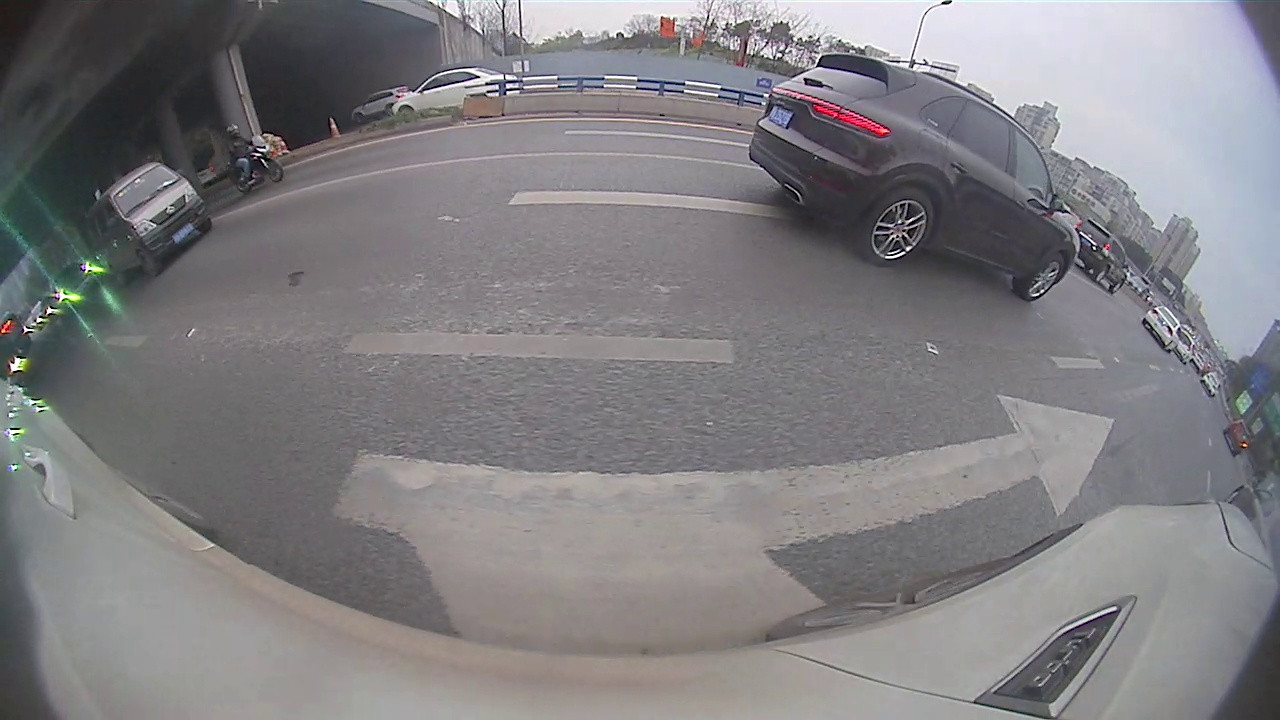car: (746, 51, 1078, 302), (89, 160, 210, 285), (389, 66, 522, 118), (1077, 218, 1130, 293), (1143, 306, 1185, 352)
front: (1018, 254, 1063, 301), (137, 248, 162, 278)
rear: (858, 183, 936, 268), (1093, 262, 1113, 286)
